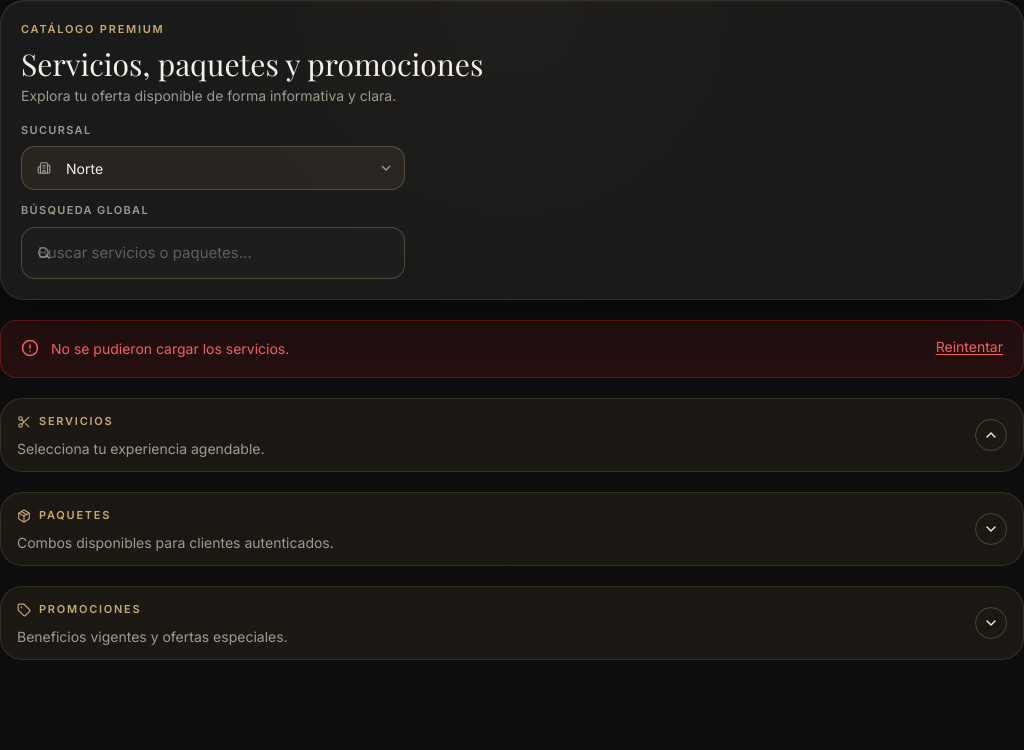
Test case: fallo Servicios conserva paquete y cantidades, reintenta en sucursal almacenada
The image size is (1024, 750).
Check: the text "No se pudieron cargar los servicios." is shown, box [51,340,289,356]
What coordinates should you click on to do the following:
click the button "Paquetes Combos disponibles para clientes autenticados."
I would click on:
 (75, 515)
Its box is [0,492,1023,566].
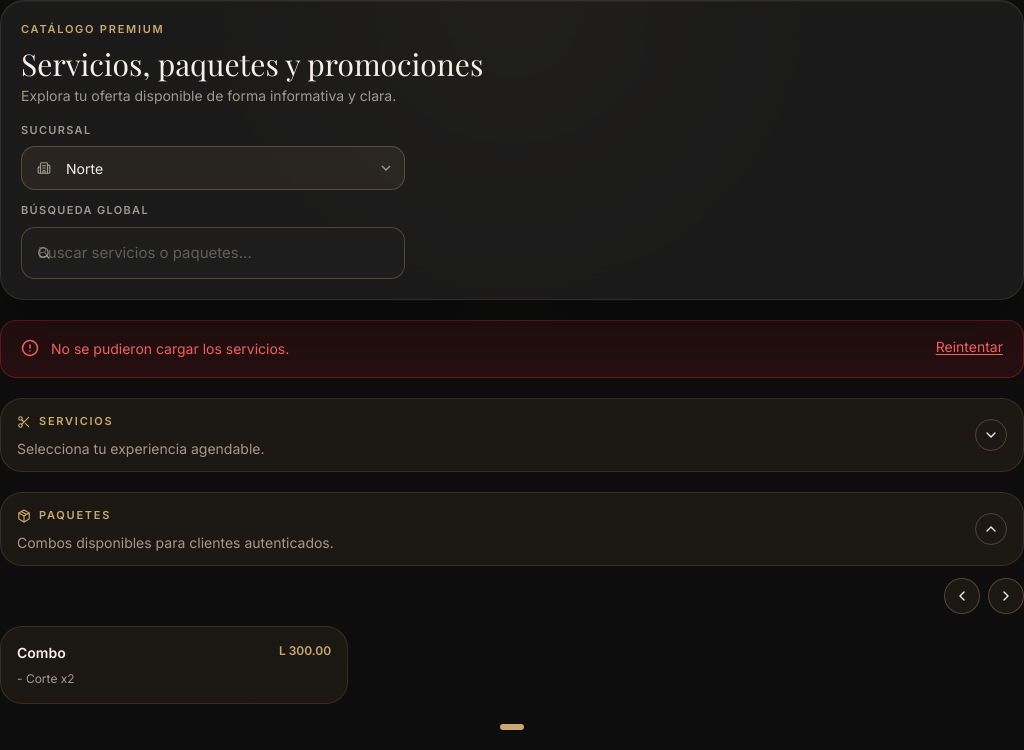
Check: the text "Combo" is shown, box [17,642,66,662]
Check: the text "L 300.00" is shown, box [279,642,331,658]
Check: the list item "- Corte x2" is shown, box [17,670,75,686]
What coordinates should you click on to do the following:
click the button "Reintentar"
I would click on:
 (969, 346)
Its box is [936,336,1003,356].
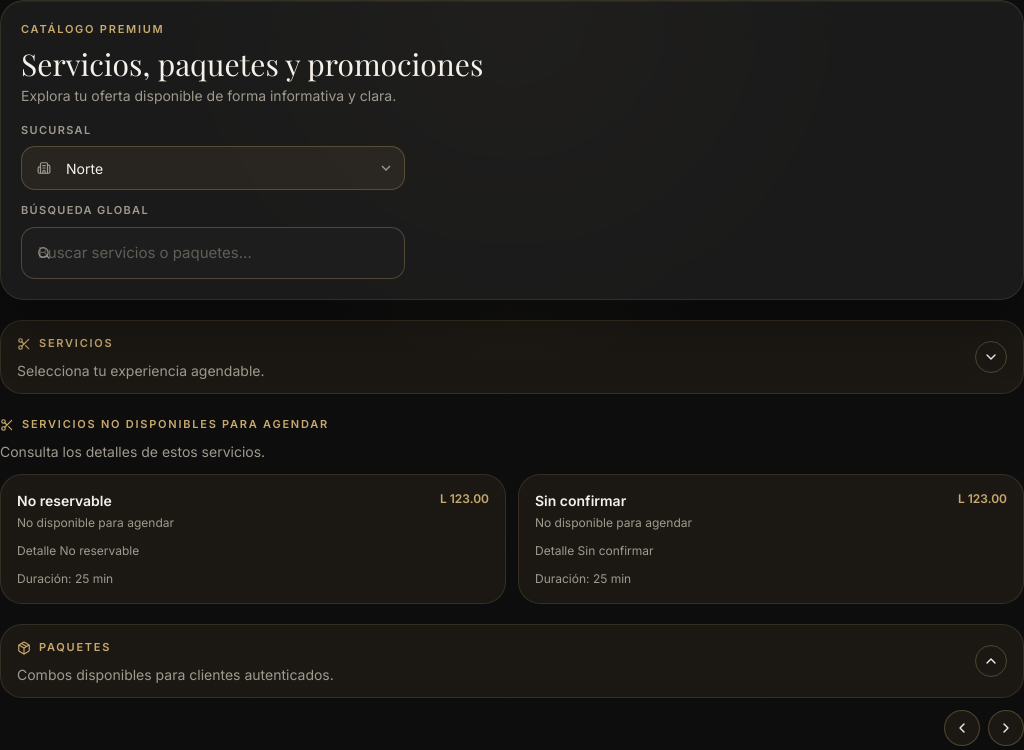
Check: the message "No se pudieron cargar los servicios. Reintentar" is gone
What coordinates should you click on to do the following:
click the button "Servicios Selecciona tu experiencia agendable."
I would click on:
 (76, 343)
Its box is [0,320,1023,394].
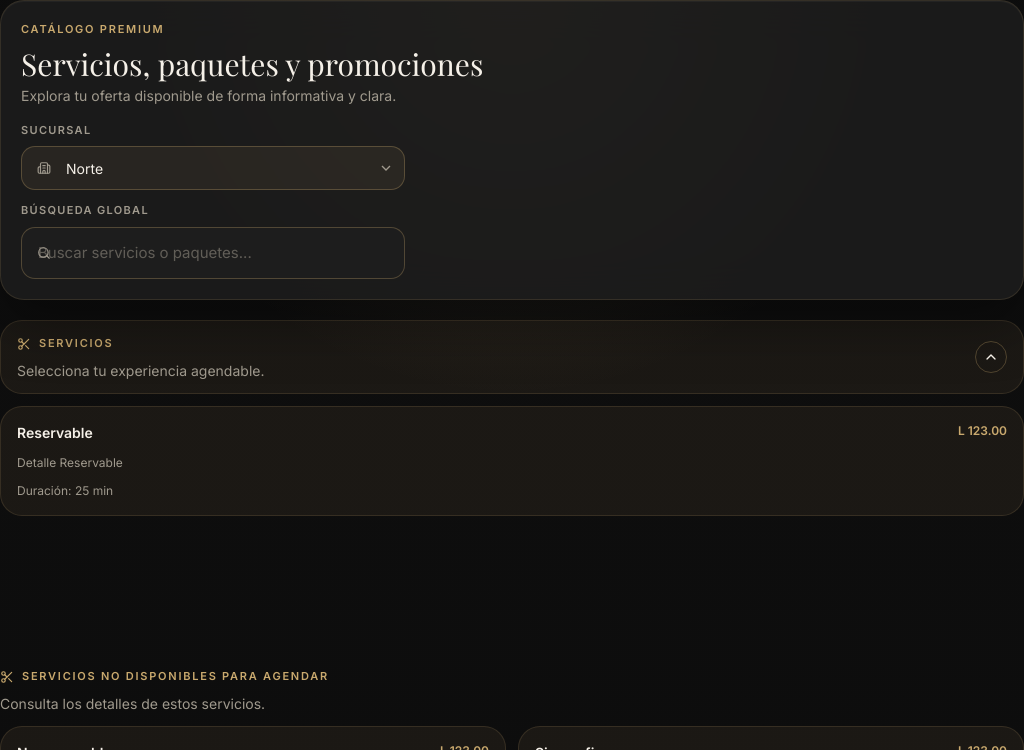
Check: the dropdown shows "Norte", box [21,146,405,190]
Check: the text "Reservable" is shown, box [17,422,93,442]
